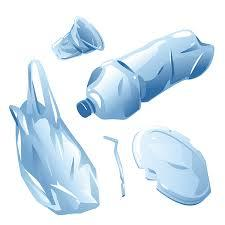plastic: (84, 29, 215, 118)
